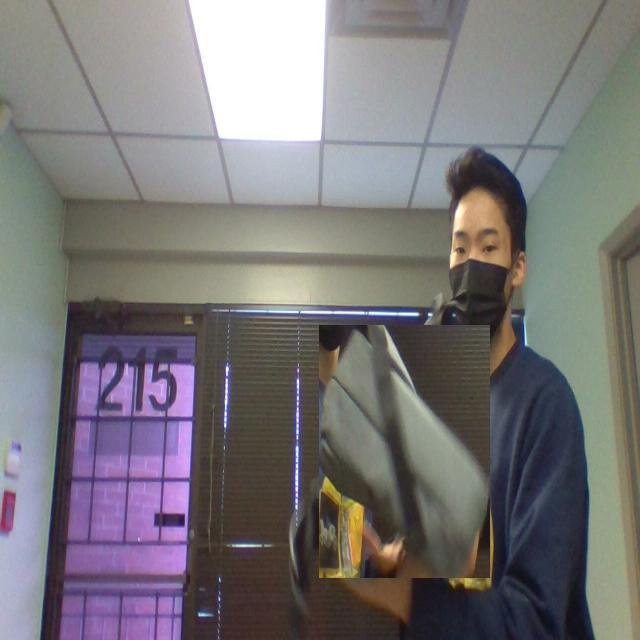Backpacks: (318, 325, 490, 579)
